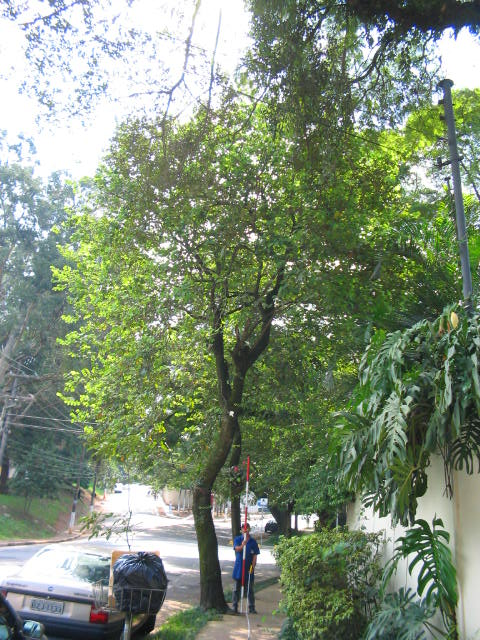crown: (50, 72, 465, 480)
stem: (182, 403, 240, 611)
stick: (236, 457, 254, 613)
tree: (47, 71, 467, 612)
